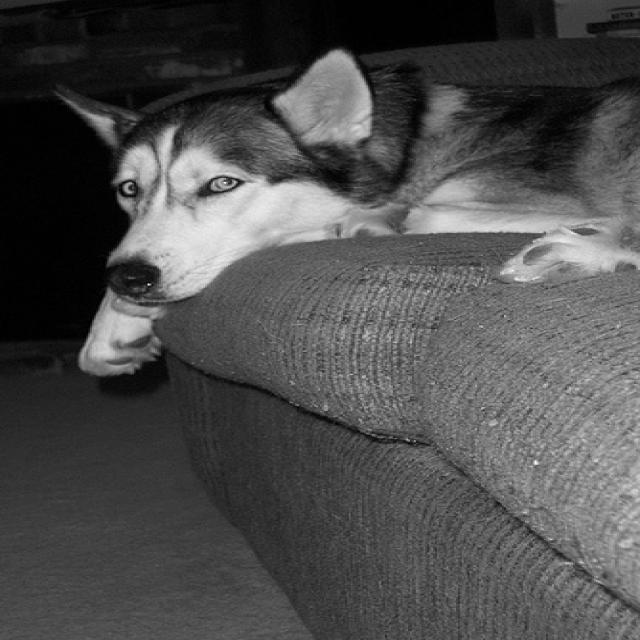dog: (40, 60, 638, 379)
sofa: (140, 39, 638, 638)
